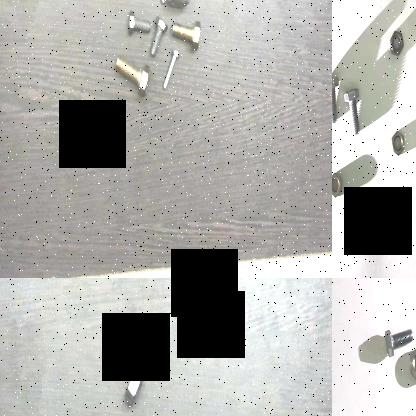Bolts: (115, 50, 152, 100), (344, 76, 364, 144), (168, 16, 200, 52), (384, 323, 414, 361), (162, 44, 182, 94), (150, 13, 167, 62), (126, 7, 152, 39), (332, 73, 343, 131)
NUTS: (121, 366, 145, 410), (384, 27, 406, 60), (388, 126, 408, 158), (332, 170, 344, 202), (409, 344, 416, 383)
